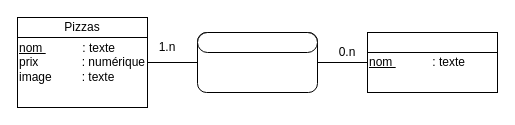
The diagram is 515 pixels wide and 125 high, and some of its shapes have lost their labels. The shapes that lost their labels are listed below. From the top down, each one's centre as x and y in pixels, then its label:
[257,42]: avoir
[432,42]: ingrédient
